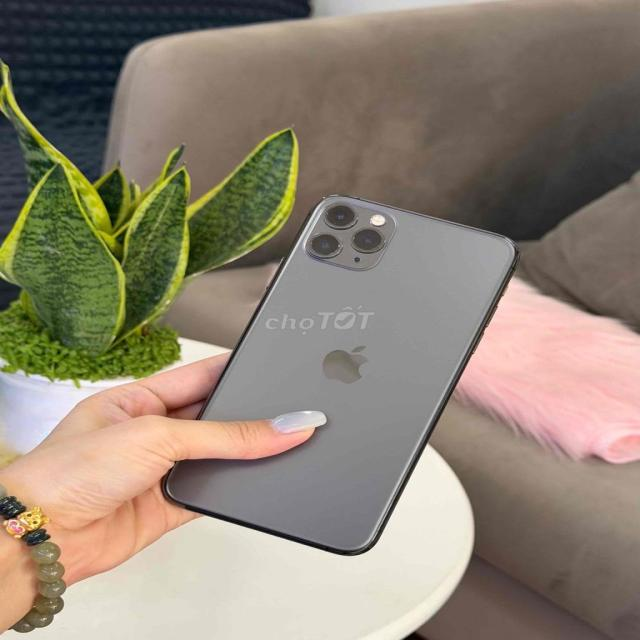scratch: (313, 198, 392, 270)
